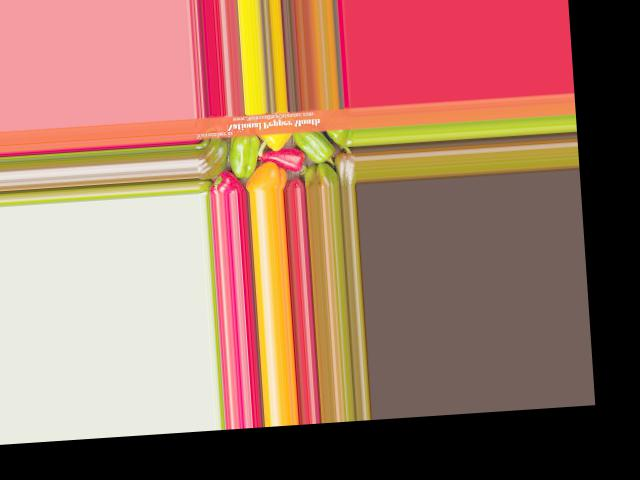bell_pepper: (196, 137, 229, 179)
